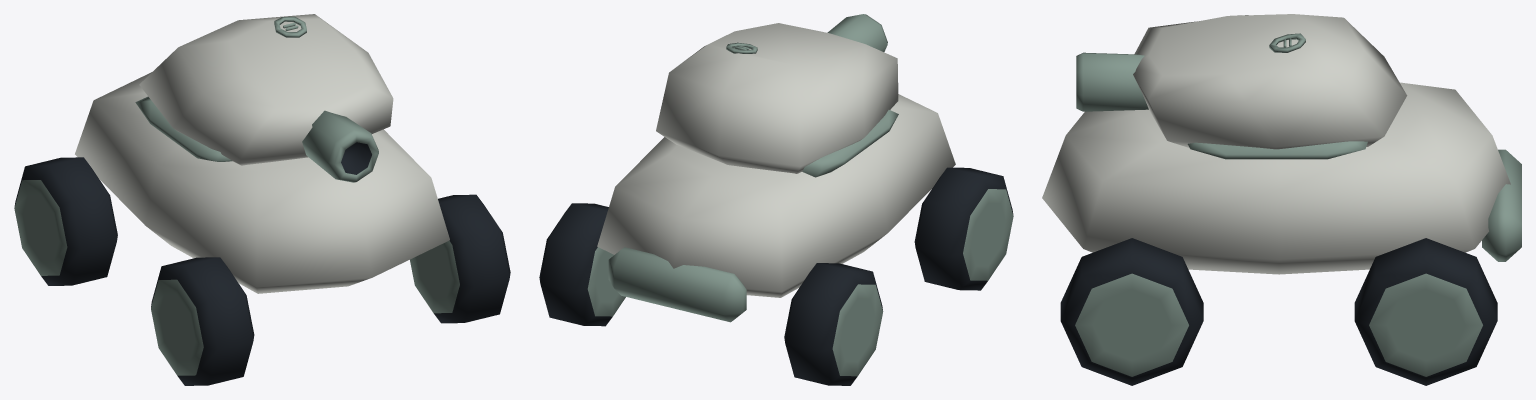
File: TOY_GHOST.far.glb
The picture shows the model from 3 angles, left to right: view 1: azimuth 30°, elevation 25°; view 2: azimuth 150°, elevation 25°; view 3: azimuth 270°, elevation 25°; orthographic projection. The views are drawn at different scales.
Visible parts, largest first — view 1: Body, TurretYaw, WheelsFront, WheelsRear, BarrelRecoil; view 2: Body, TurretYaw, WheelsRear, WheelsFront, BarrelRecoil; view 3: Body, TurretYaw, WheelsRear, WheelsFront, BarrelRecoil.
Boxes of the visible parts, bbox=[...] form: Body: bbox=[75, 72, 449, 293]; TurretYaw: bbox=[135, 14, 393, 165]; WheelsFront: bbox=[151, 194, 510, 385]; WheelsRear: bbox=[14, 157, 117, 285]; BarrelRecoil: bbox=[302, 110, 378, 182]; Body: bbox=[597, 94, 955, 322]; TurretYaw: bbox=[656, 23, 898, 177]; WheelsRear: bbox=[539, 203, 883, 385]; WheelsFront: bbox=[914, 167, 1013, 290]; BarrelRecoil: bbox=[827, 14, 887, 51]; Body: bbox=[1042, 82, 1521, 274]; TurretYaw: bbox=[1133, 14, 1407, 159]; WheelsRear: bbox=[1354, 238, 1497, 385]; WheelsFront: bbox=[1060, 238, 1203, 385]; BarrelRecoil: bbox=[1076, 52, 1148, 111].
Size of the model in its own units: 0.668 by 0.555 by 0.8401.
